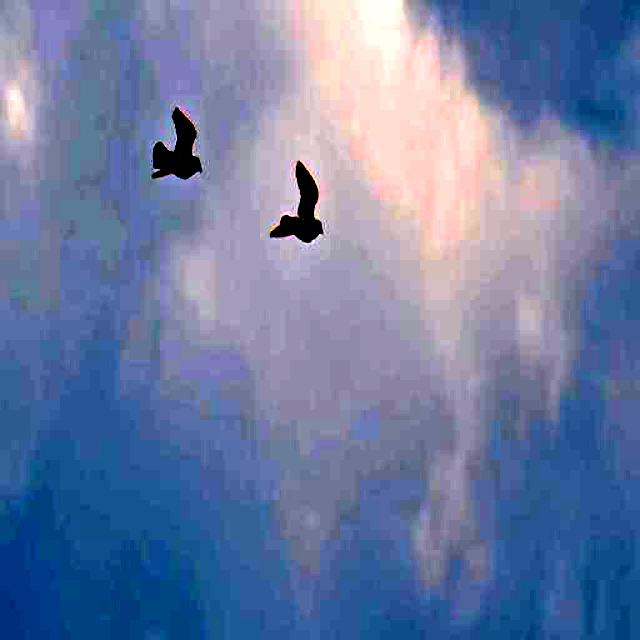airplane: (265, 139, 334, 271), (145, 86, 200, 185)
